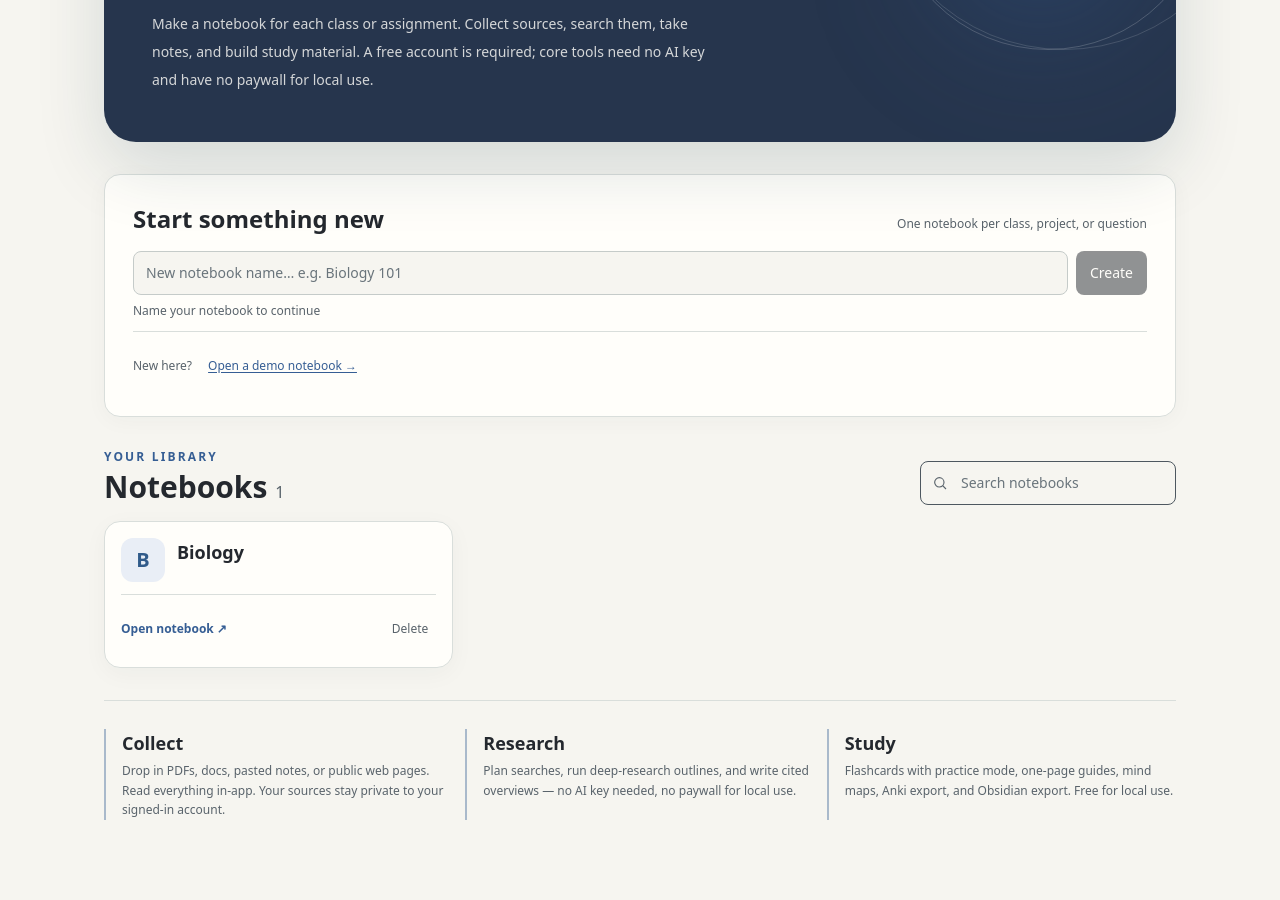
Test: NotebookPicker: a notebooks refresh auto-disarms the armed confirm
(page scrolled)
Step 1. Click the button with aria-label "Delete Biology" → coordinates (410, 629), box [384,607,436,651]
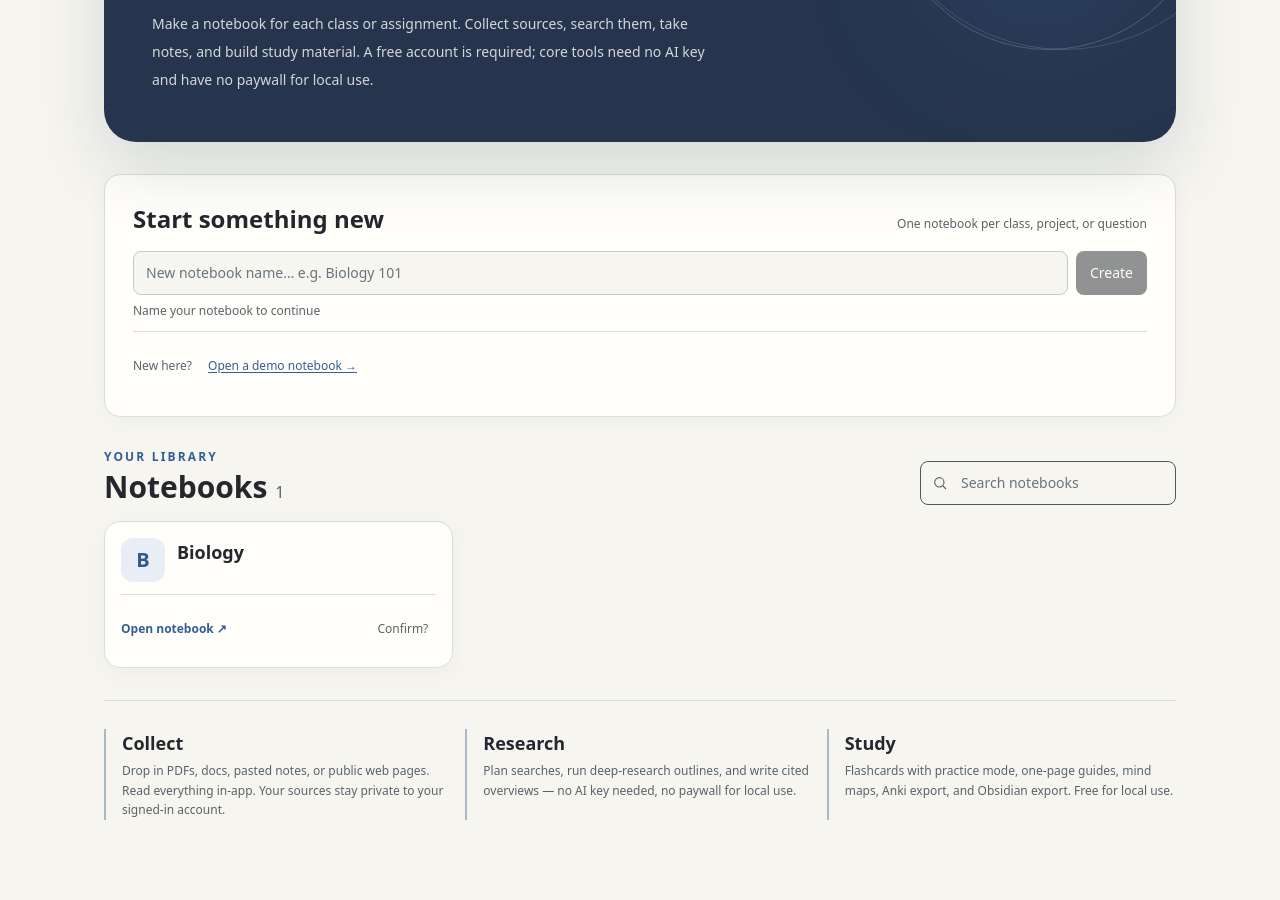
Now the button with aria-label "confirm delete biology" is shown, box [370,607,436,651]
